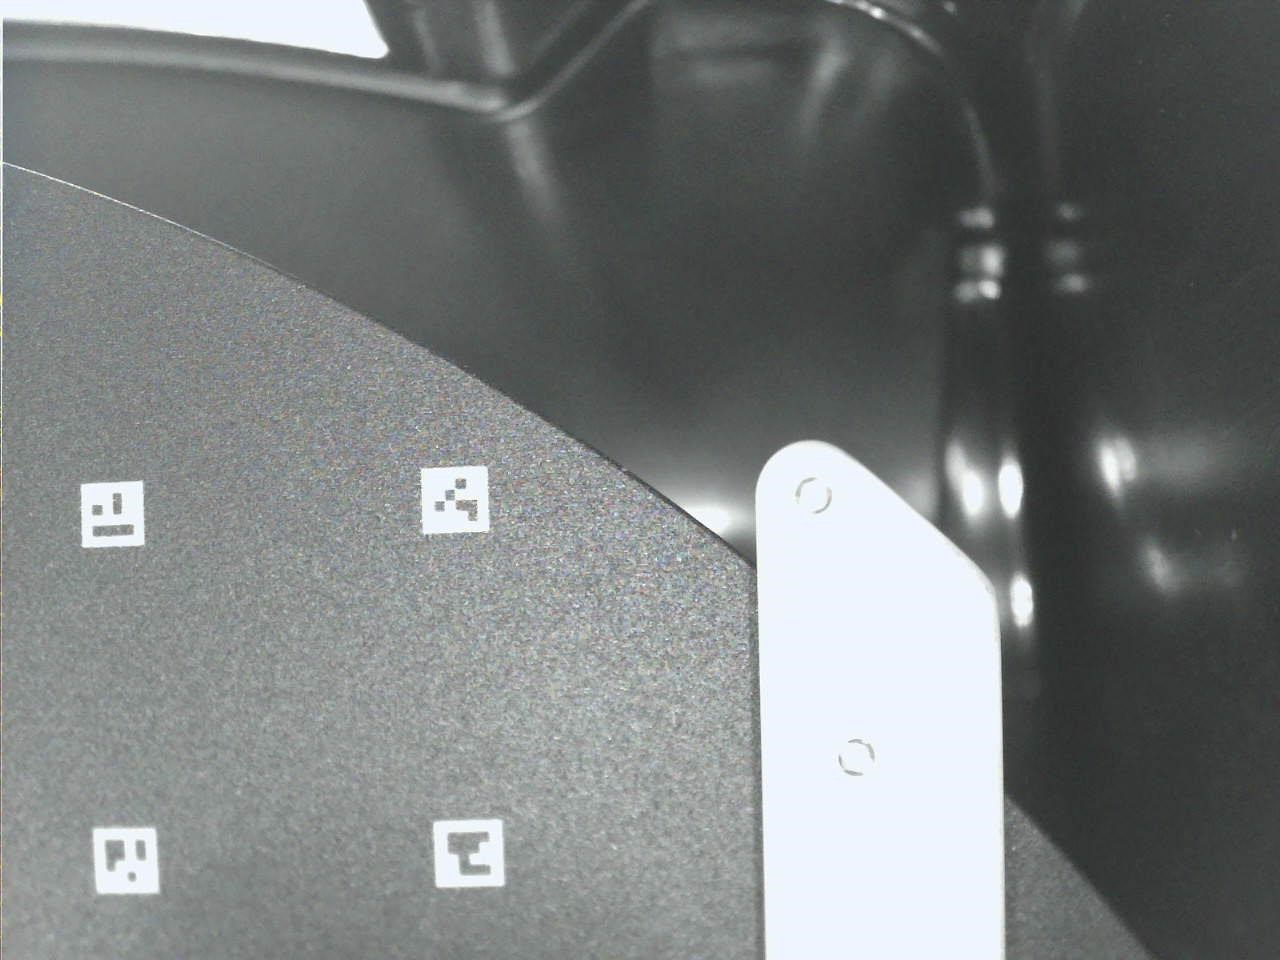forktip: (733, 413, 1030, 960)
